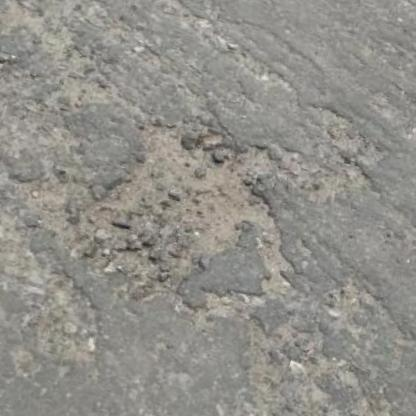pothole: (67, 94, 306, 321)
